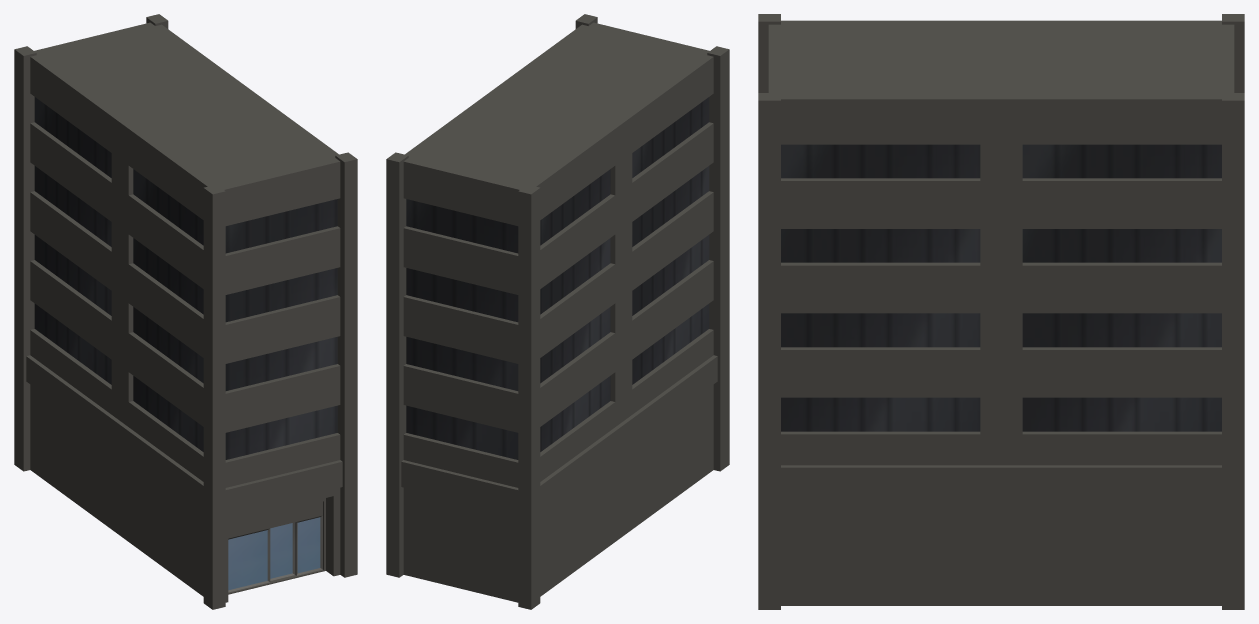
The model's file is Bld_Building_DA.fbx.
The picture shows the model from 3 angles, left to right: view 1: azimuth 30°, elevation 25°; view 2: azimuth 150°, elevation 25°; view 3: azimuth 270°, elevation 25°; orthographic projection. The views are drawn at different scales.
Parts seen in each view (by area): view 1: Bld_Building_DA; view 2: Bld_Building_DA; view 3: Bld_Building_DA.
Boxes of the visible parts, left/top/right/bottom form: Bld_Building_DA: left=14, top=14, right=357, bottom=609; Bld_Building_DA: left=386, top=14, right=729, bottom=609; Bld_Building_DA: left=758, top=14, right=1244, bottom=609.
Size of the model in its own units: 660 by 1810 by 1566.
